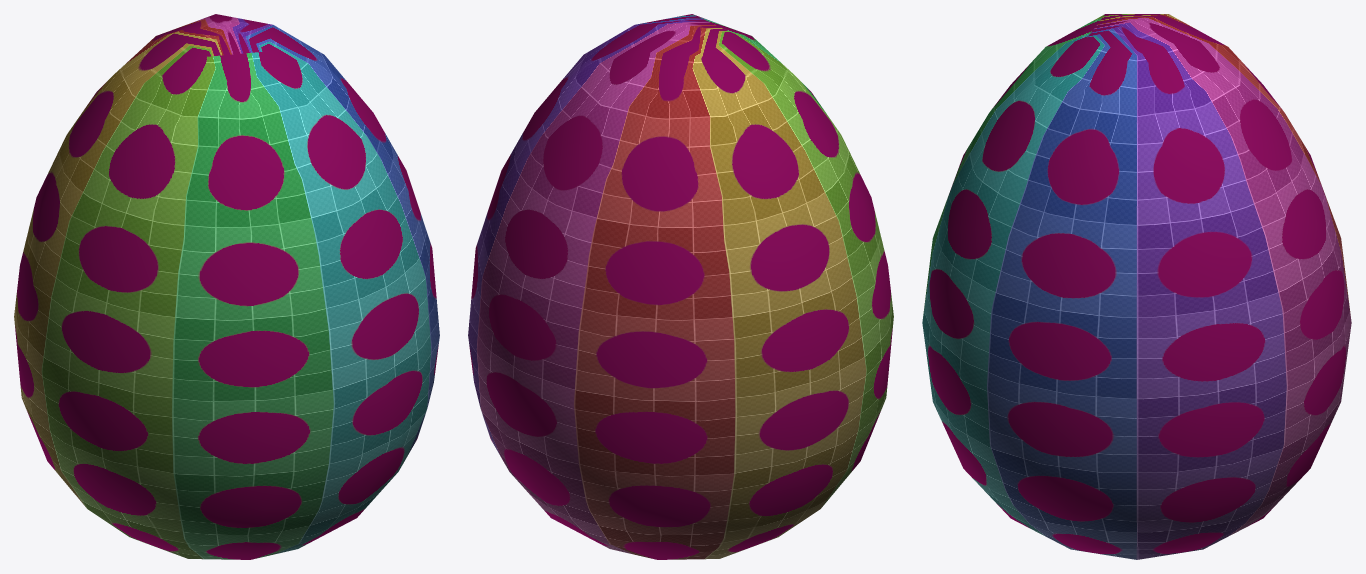
File: egg.glb
3 views of the same model, side by side, from view 1: azimuth 30°, elevation 25°; view 2: azimuth 150°, elevation 25°; view 3: azimuth 270°, elevation 25° (orthographic).
Visible parts, largest first — view 1: Icosphere; view 2: Icosphere; view 3: Icosphere.
Part boxes in pixels (x1,y1,x2,y2): Icosphere: [14, 14, 439, 559]; Icosphere: [468, 14, 893, 559]; Icosphere: [922, 14, 1351, 559].
Size of the model in its own units: 20 by 26.73 by 20.
1 material, 1 textured.
